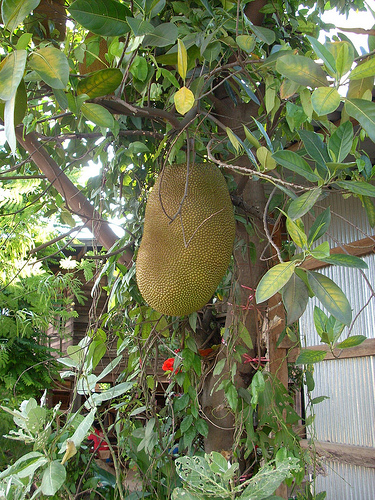jackfruit: (135, 161, 236, 320)
